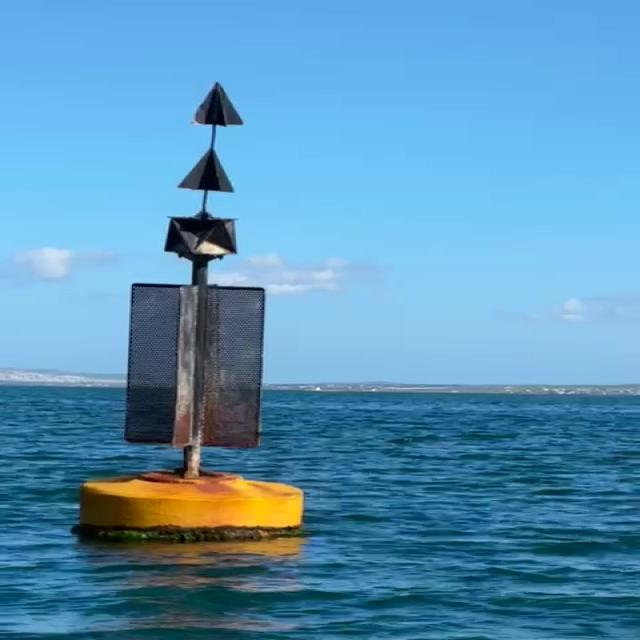marque: (66, 82, 303, 539)
